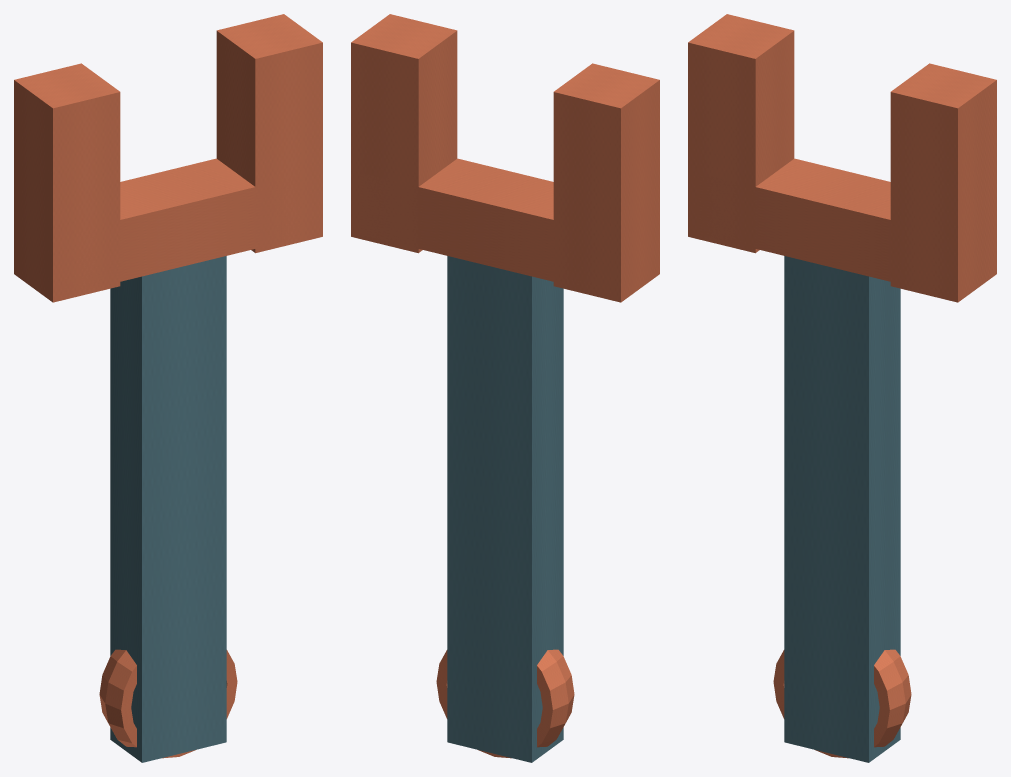
Rendered from atlas100-s044-a05.glb.
3 renders of one model, left to right at view 1: azimuth 30°, elevation 25°; view 2: azimuth 150°, elevation 25°; view 3: azimuth 330°, elevation 25°, orthographic.
Visible parts, largest first — view 1: atlas100-s044-a05:part-000, atlas100-s044-a05:part-001, atlas100-s044-a05:part-002, atlas100-s044-a05:part-003, atlas100-s044-a05:part-004; view 2: atlas100-s044-a05:part-000, atlas100-s044-a05:part-001, atlas100-s044-a05:part-002, atlas100-s044-a05:part-003, atlas100-s044-a05:part-004; view 3: atlas100-s044-a05:part-000, atlas100-s044-a05:part-002, atlas100-s044-a05:part-001, atlas100-s044-a05:part-003, atlas100-s044-a05:part-004.
Part boxes in pixels (left/top/right/bottom): atlas100-s044-a05:part-000: left=110, top=256, right=226, bottom=762; atlas100-s044-a05:part-001: left=14, top=63, right=120, bottom=302; atlas100-s044-a05:part-002: left=216, top=14, right=322, bottom=253; atlas100-s044-a05:part-003: left=61, top=158, right=313, bottom=295; atlas100-s044-a05:part-004: left=99, top=649, right=237, bottom=758; atlas100-s044-a05:part-000: left=447, top=256, right=563, bottom=762; atlas100-s044-a05:part-001: left=553, top=63, right=659, bottom=302; atlas100-s044-a05:part-002: left=351, top=14, right=457, bottom=253; atlas100-s044-a05:part-003: left=359, top=158, right=612, bottom=294; atlas100-s044-a05:part-004: left=436, top=649, right=574, bottom=758; atlas100-s044-a05:part-000: left=784, top=256, right=900, bottom=762; atlas100-s044-a05:part-002: left=890, top=63, right=996, bottom=302; atlas100-s044-a05:part-001: left=688, top=14, right=794, bottom=253; atlas100-s044-a05:part-003: left=696, top=158, right=948, bottom=293; atlas100-s044-a05:part-004: left=773, top=649, right=911, bottom=758.
Size of the model in its own units: 0.3494 by 0.8572 by 0.0874.
2 materials, 2 textured.
